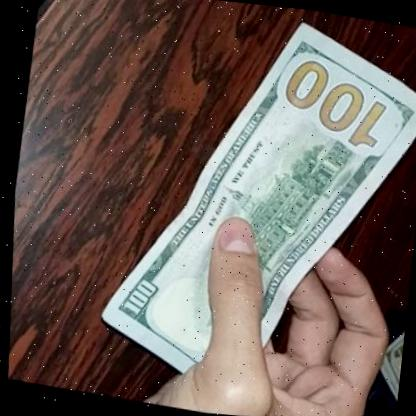one_hundred-back: (59, 0, 416, 416)
